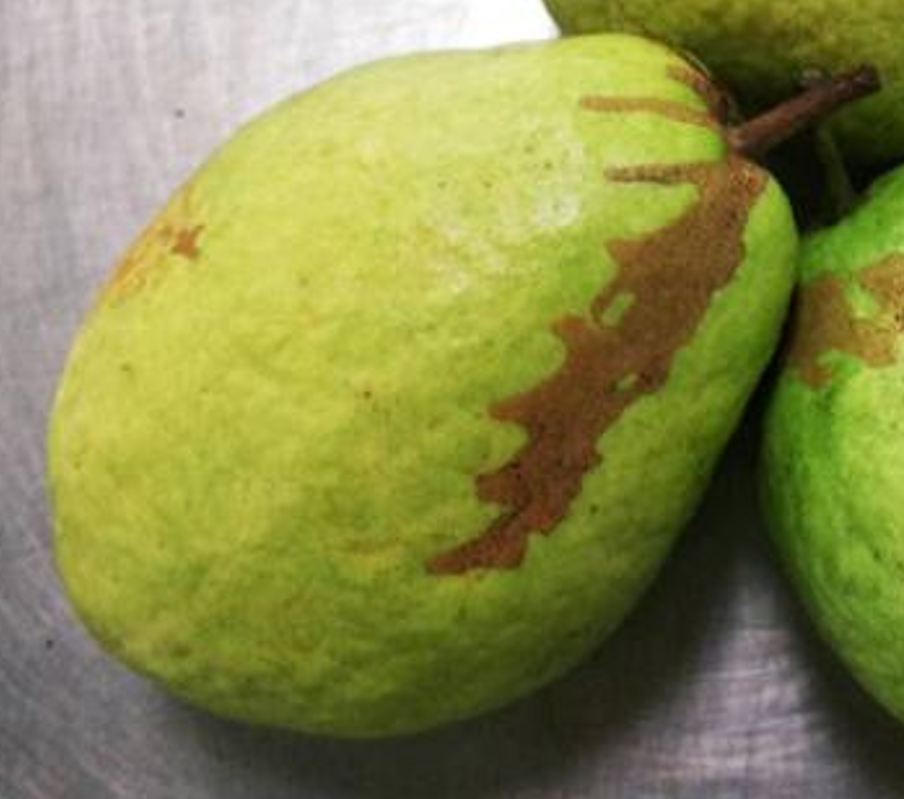guava_C: (44, 32, 801, 740)
